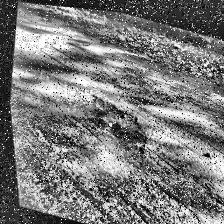pothole: (78, 91, 152, 155)
